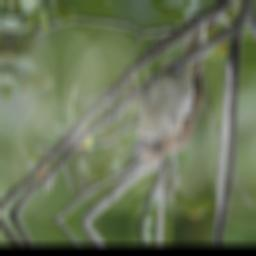Cuckoo: (131, 15, 210, 170)
